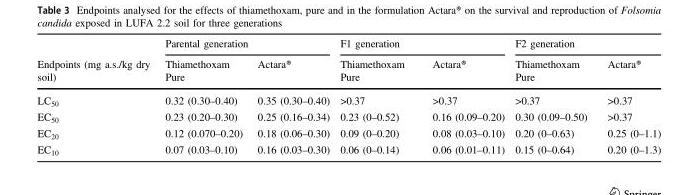table: (36, 36, 660, 156)
table column: (36, 36, 156, 156), (156, 36, 249, 156), (417, 36, 509, 156), (509, 36, 596, 156), (249, 36, 334, 156), (334, 36, 417, 156), (596, 36, 660, 156)
table column header: (36, 36, 660, 87)
table row: (36, 52, 660, 87), (36, 87, 660, 108), (36, 124, 660, 141), (36, 36, 660, 52), (36, 108, 660, 124), (36, 141, 660, 156)
table spanning cell: (36, 36, 156, 87), (156, 36, 334, 52), (334, 36, 509, 52), (509, 36, 660, 52)
